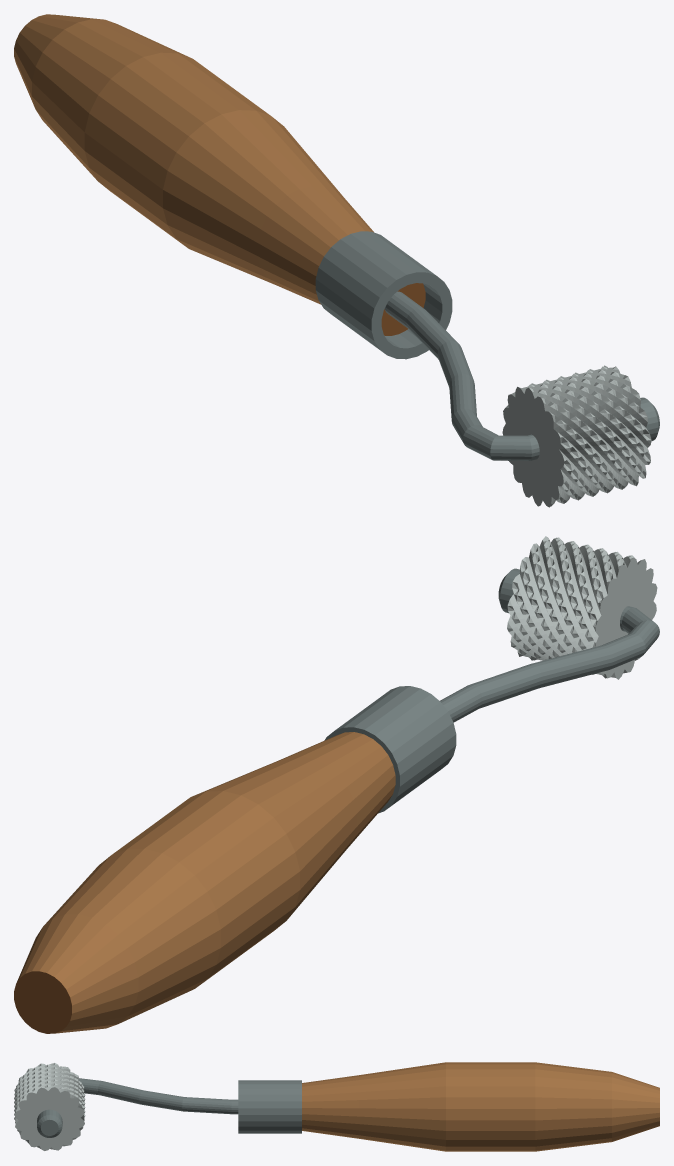
The picture shows the model from 3 angles, top to bottom: view 1: azimuth 30°, elevation 25°; view 2: azimuth 150°, elevation 25°; view 3: azimuth 270°, elevation 25°; orthographic projection. The views are drawn at different scales.
Visible parts, largest first — view 1: WholeCompletePearWoodGrip, WholeThroughBoredCrosshatchedReliefDrum, WholeAnnularNeckCollar, WholeContinuousBentNeckAndTransverseAxle; view 2: WholeCompletePearWoodGrip, WholeThroughBoredCrosshatchedReliefDrum, WholeAnnularNeckCollar, WholeContinuousBentNeckAndTransverseAxle; view 3: WholeCompletePearWoodGrip, WholeThroughBoredCrosshatchedReliefDrum, WholeAnnularNeckCollar, WholeContinuousBentNeckAndTransverseAxle, WholeRetainingEndCap.
Boxes of the visible parts, <box> form: WholeCompletePearWoodGrip: <box>14,14,425,335</box>; WholeThroughBoredCrosshatchedReliefDrum: <box>502,365,651,507</box>; WholeAnnularNeckCollar: <box>315,231,452,359</box>; WholeContinuousBentNeckAndTransverseAxle: <box>384,291,539,460</box>; WholeCompletePearWoodGrip: <box>14,732,395,1033</box>; WholeThroughBoredCrosshatchedReliefDrum: <box>507,536,657,679</box>; WholeAnnularNeckCollar: <box>324,686,456,813</box>; WholeContinuousBentNeckAndTransverseAxle: <box>440,606,659,722</box>; WholeCompletePearWoodGrip: <box>302,1062,659,1151</box>; WholeThroughBoredCrosshatchedReliefDrum: <box>14,1063,85,1150</box>; WholeAnnularNeckCollar: <box>238,1080,301,1133</box>; WholeContinuousBentNeckAndTransverseAxle: <box>78,1078,238,1114</box>; WholeRetainingEndCap: <box>37,1109,62,1137</box>.
Size of the model in its own units: 0.0338 by 0.0278 by 0.2022.
